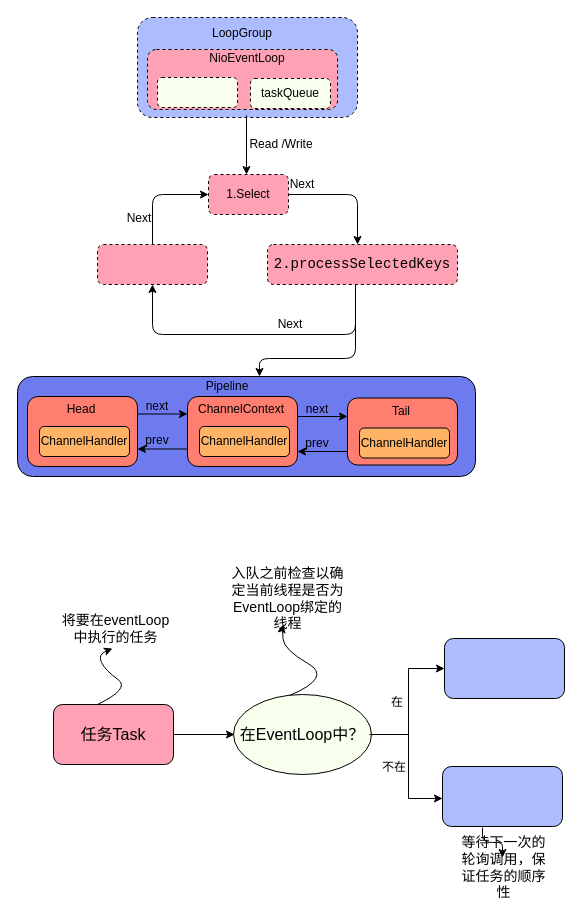
This 582x918 diagram has some shape labels left out. Here are the shapes that lost their labels. From the top down, the centre of each, then its label:
At pixel 197 92: "Selector".
At pixel 152 264: "3.runAllTasks".
At pixel 504 668: "执行".
At pixel 502 796: "进入taskQueue".
